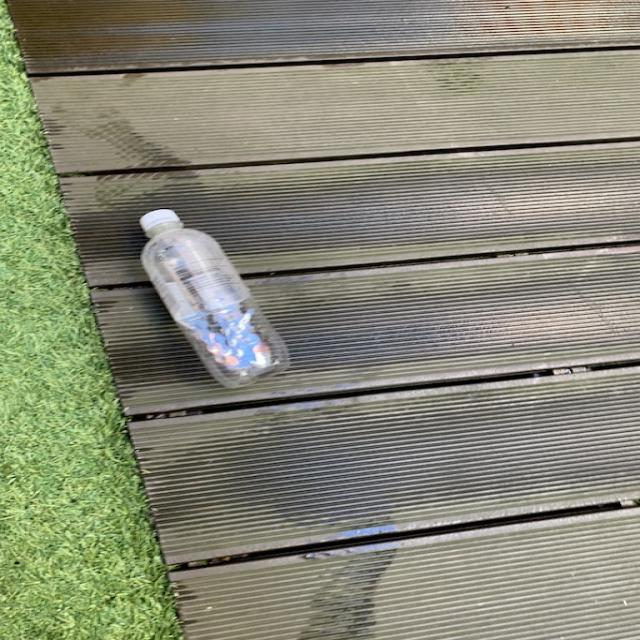Waste: (139, 211, 288, 388)
